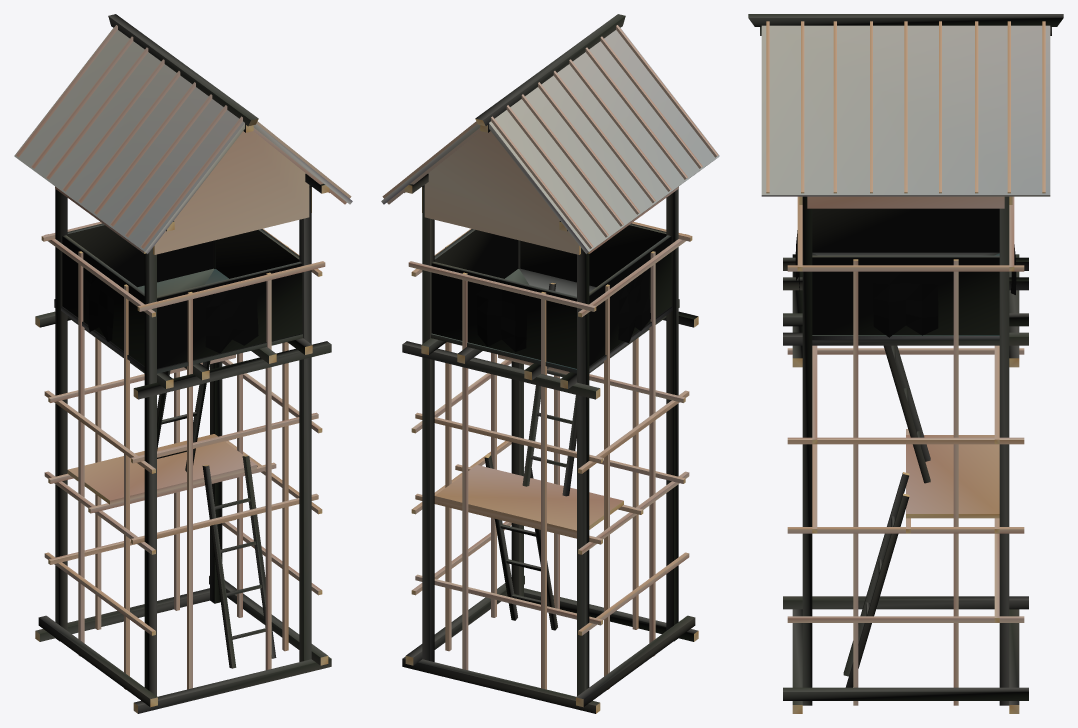
Rendered from watchtower.glb.
The picture shows the model from 3 angles, left to right: view 1: azimuth 30°, elevation 25°; view 2: azimuth 150°, elevation 25°; view 3: azimuth 270°, elevation 25°; orthographic projection. The views are drawn at different scales.
Parts seen in each view (by area): view 1: Plane.003; view 2: Plane.003; view 3: Plane.003.
Part boxes in pixels (x1=…): Plane.003: x1=14, y1=14, x2=352, y2=713; Plane.003: x1=381, y1=14, x2=719, y2=713; Plane.003: x1=748, y1=14, x2=1063, y2=713.
Size of the model in its own units: 1.57 by 4.2 by 1.85.
